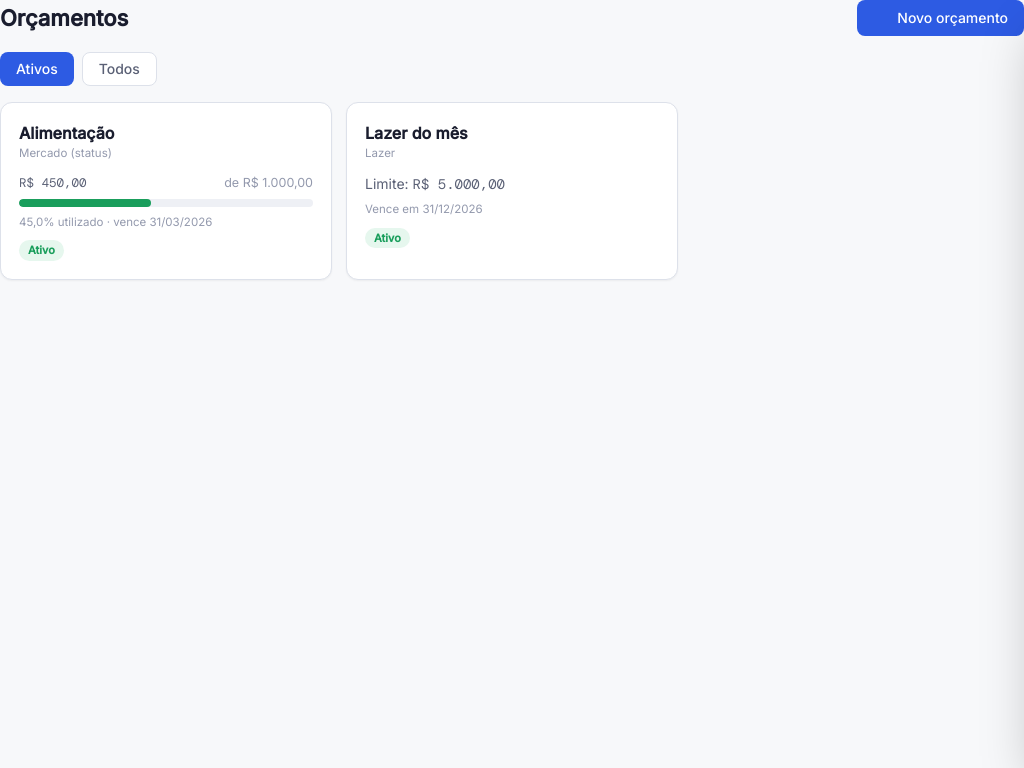
Orcamentos › novo orçamento › valida o nome antes de enviar
Click the button "Novo orçamento": (941, 18) [857,0,1023,36]
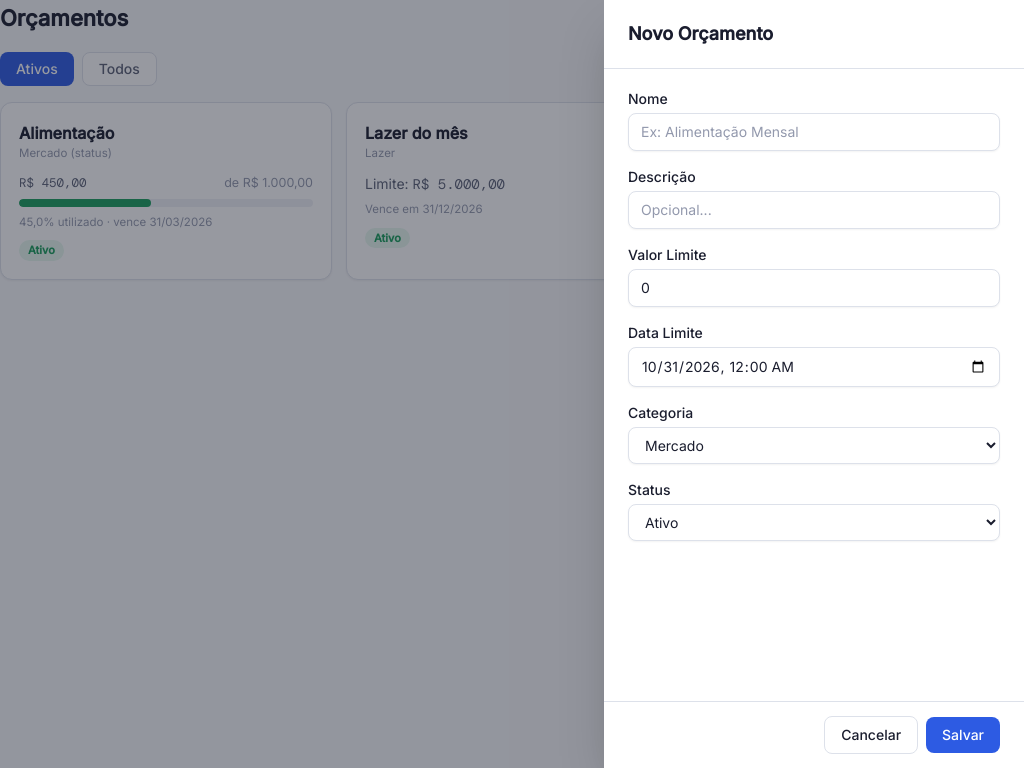
Click the button "Salvar": (963, 735) [926,717,1000,753]
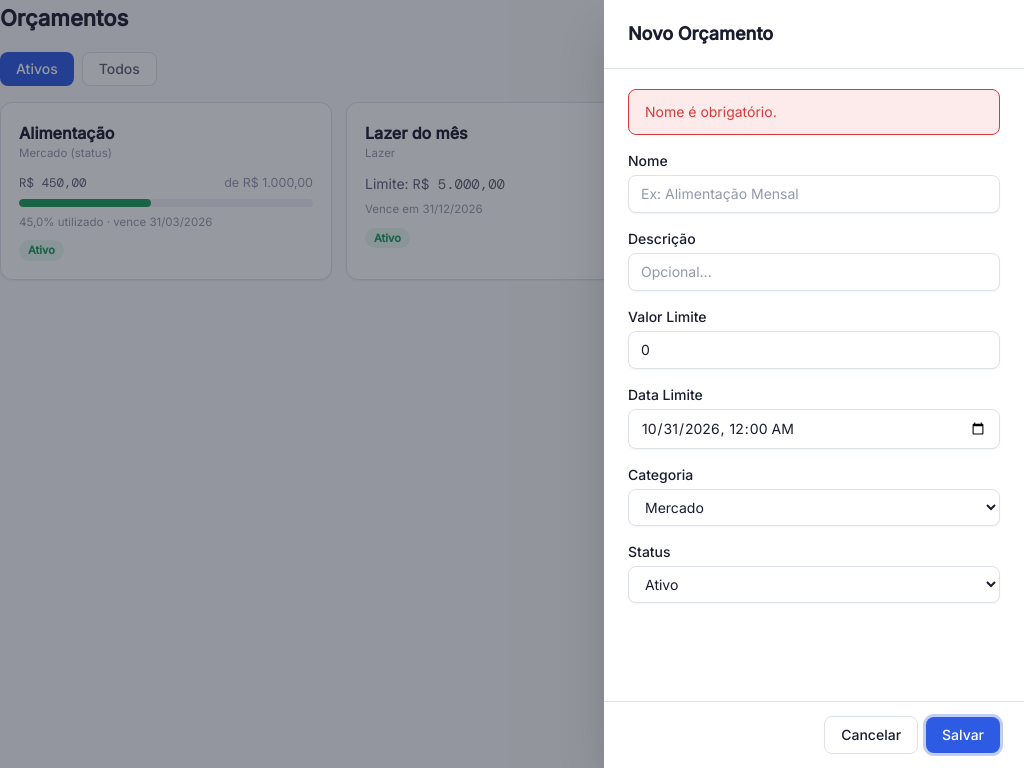
expect the text "Nome é obrigatório." is shown: met, box [628,89,1000,135]
